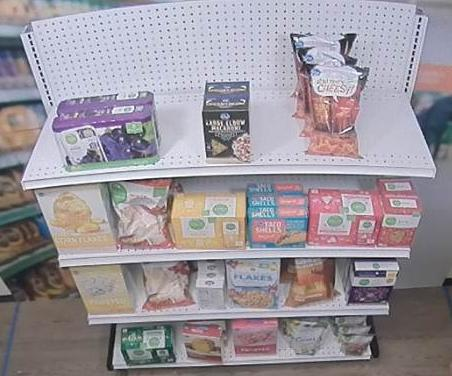stockout: (363, 78, 433, 165), (249, 79, 306, 163), (156, 81, 204, 164), (24, 102, 66, 177)
